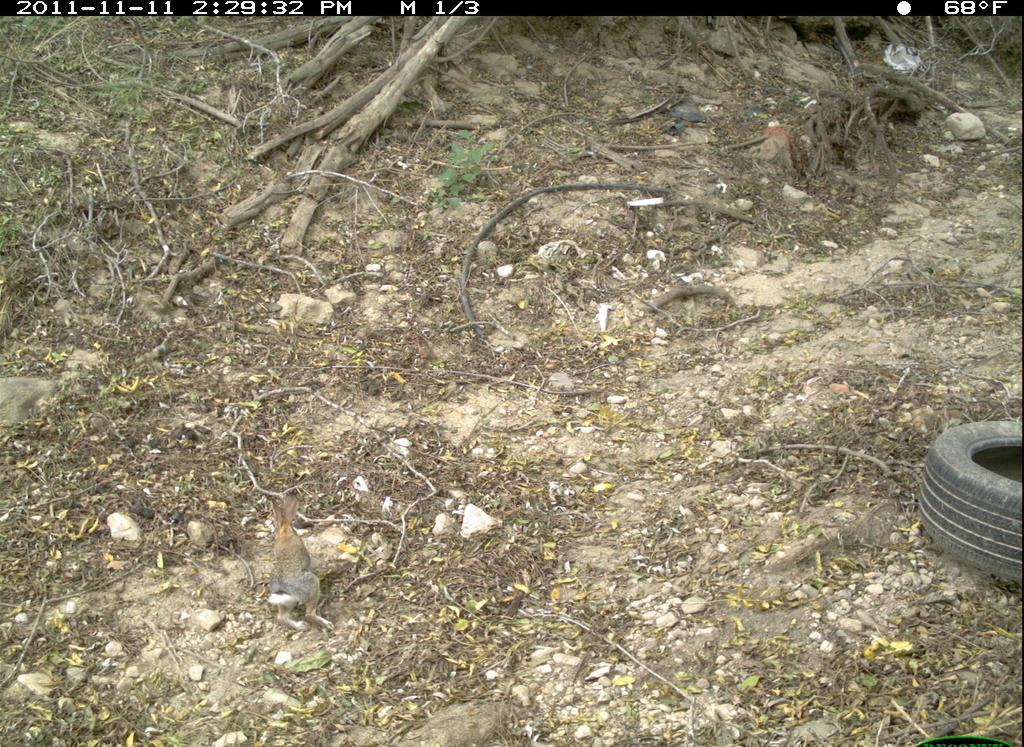rabbit: (254, 484, 344, 641)
